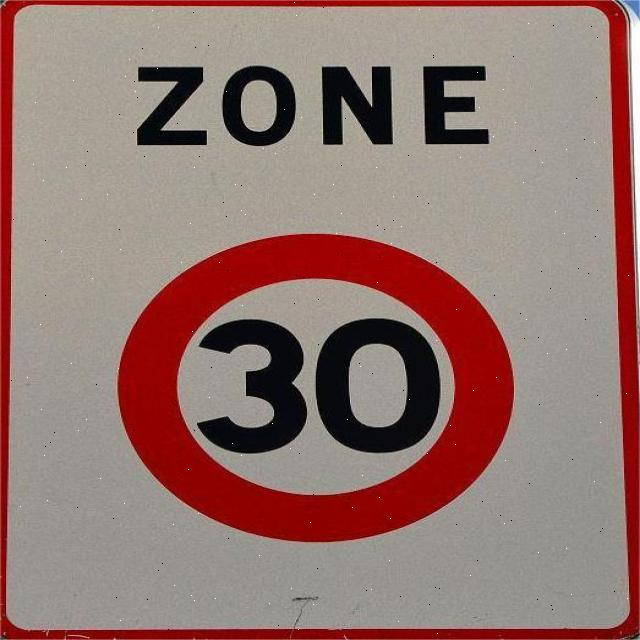speed limit 30: (116, 234, 515, 545)
